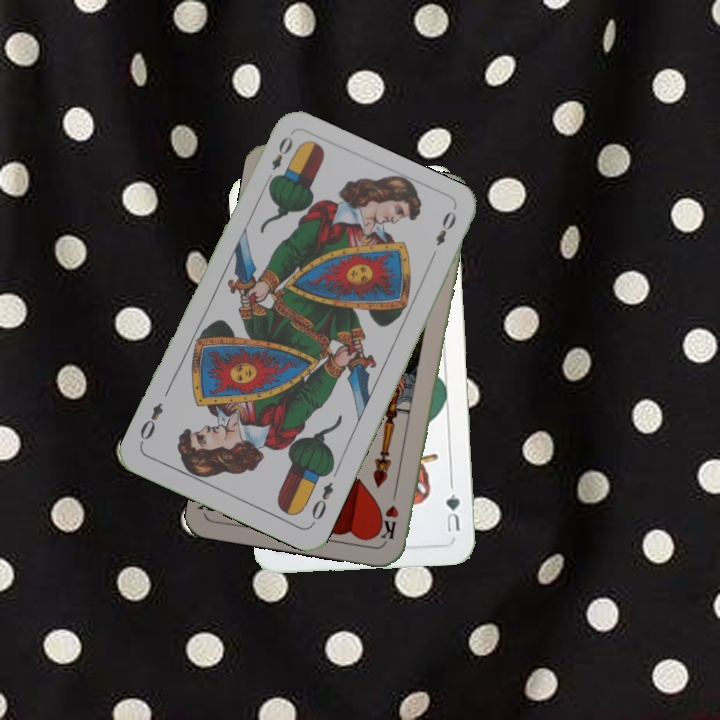EO: (262, 132, 296, 187), (307, 477, 336, 527)
GU: (442, 489, 463, 535)
HK: (377, 483, 402, 542)
